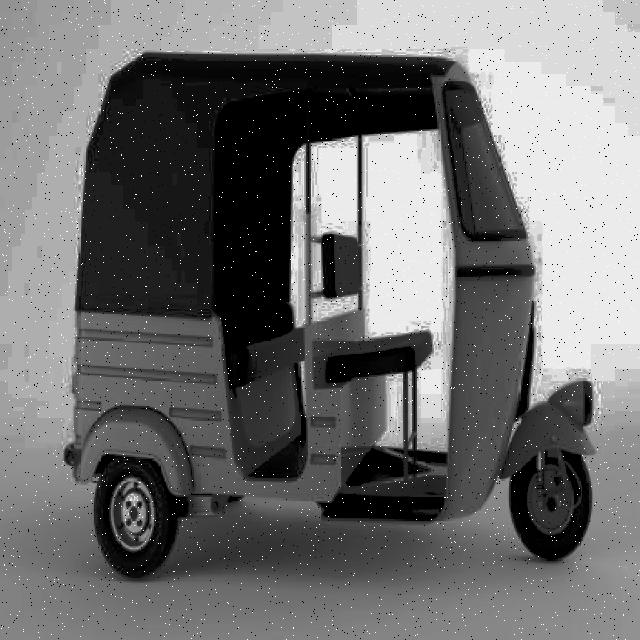Auto-Rickshaw: (61, 43, 607, 587)
